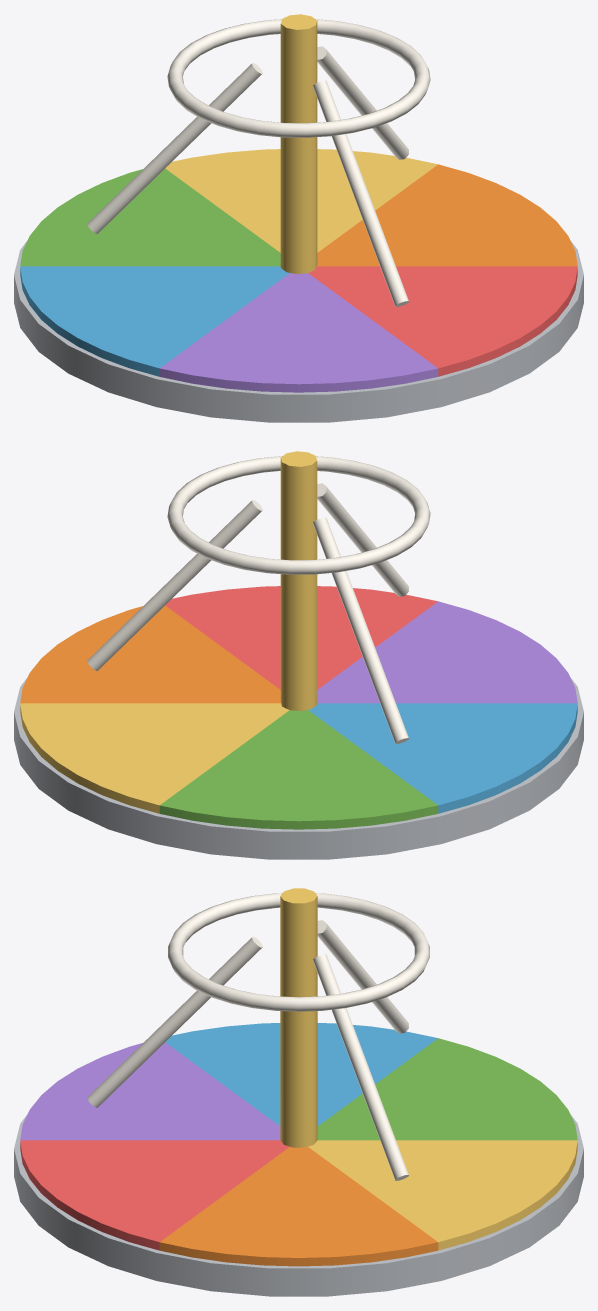
File: kmerry.glb
3 views of the same model, one above another, from view 1: azimuth 30°, elevation 25°; view 2: azimuth 150°, elevation 25°; view 3: azimuth 270°, elevation 25° (orthographic).
Size of the model in its own units: 1.83 by 1.15 by 1.84.
